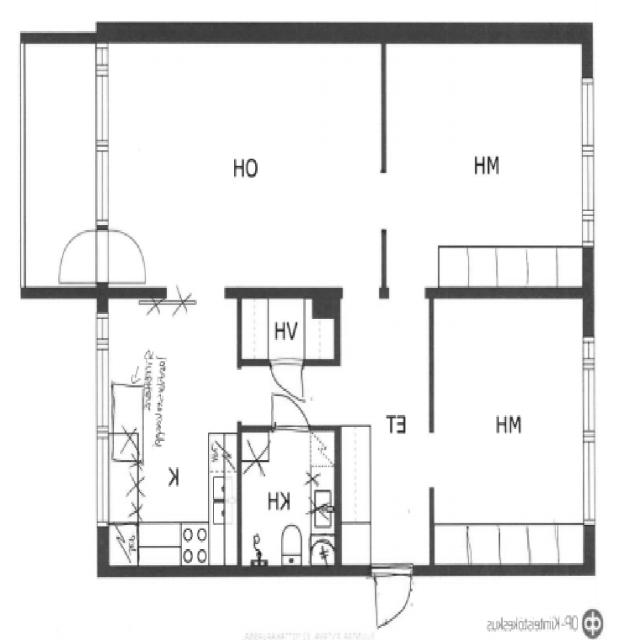door: (100, 223, 152, 285), (53, 222, 102, 284), (370, 561, 414, 630), (267, 352, 306, 398), (270, 391, 311, 434)
window: (575, 333, 604, 534), (574, 73, 602, 257), (88, 56, 115, 234), (90, 308, 114, 442), (576, 332, 600, 442), (92, 424, 114, 534), (161, 280, 233, 302)
zone: (97, 43, 384, 289), (383, 37, 589, 291), (429, 295, 592, 563), (100, 291, 240, 568), (239, 426, 339, 570), (242, 294, 328, 361)
